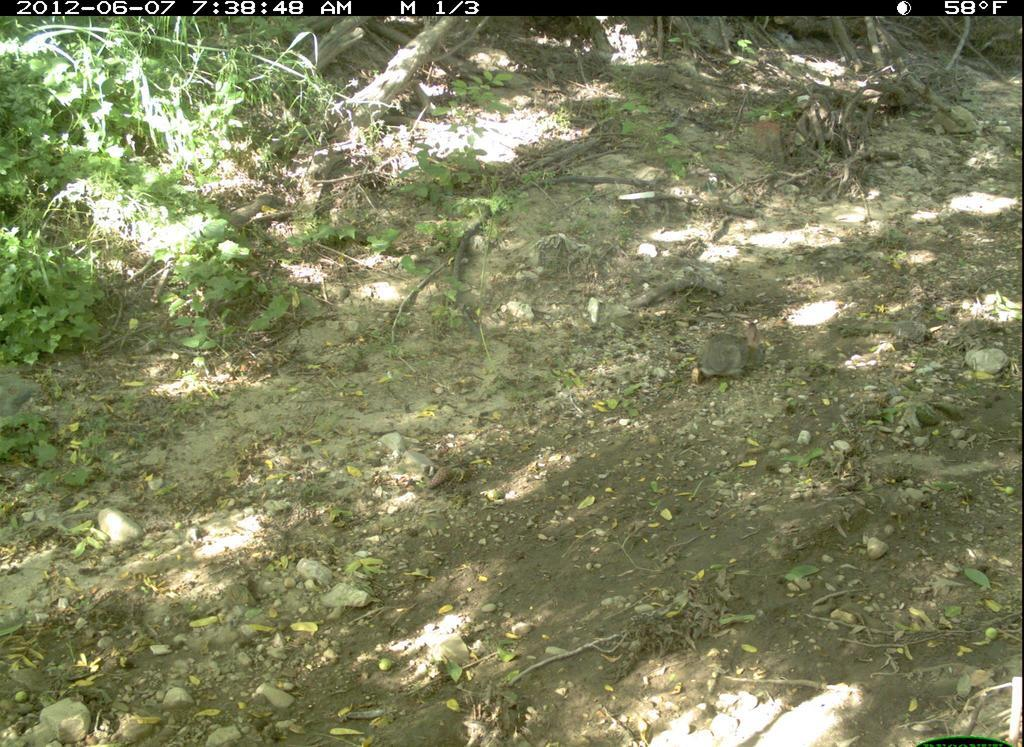rabbit: (697, 322, 770, 382)
